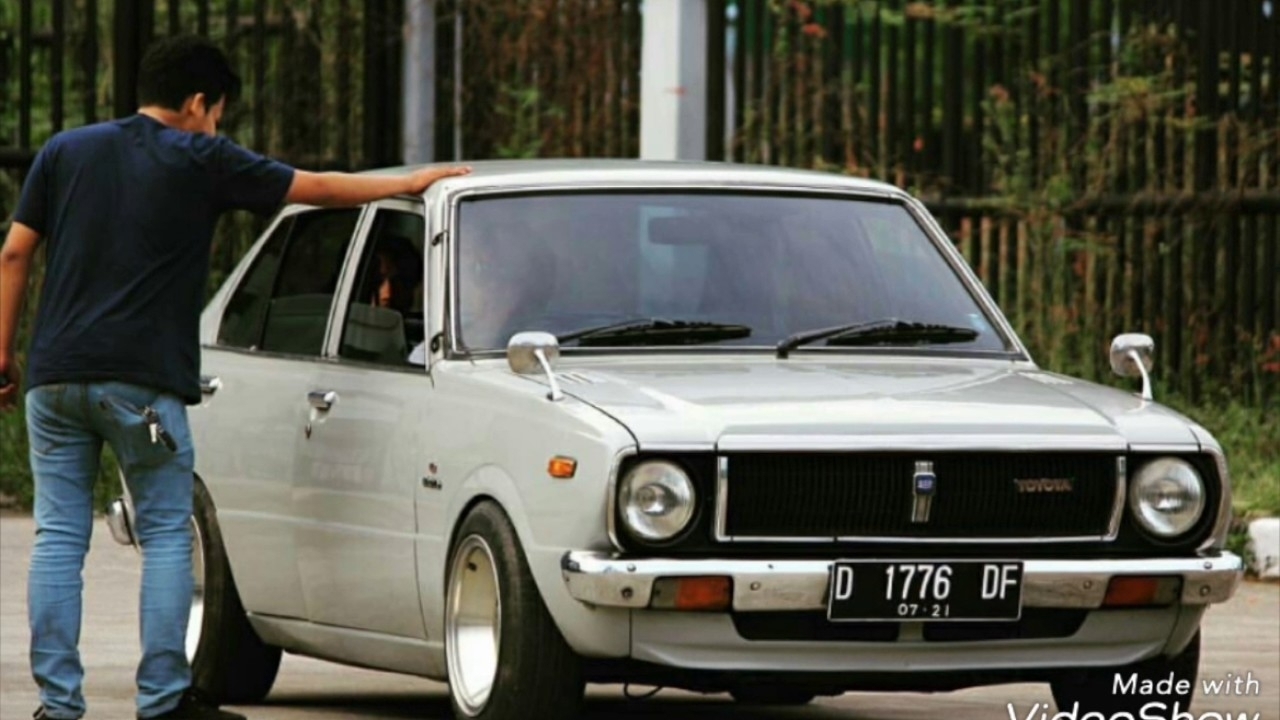plate: (832, 557, 1017, 621)
